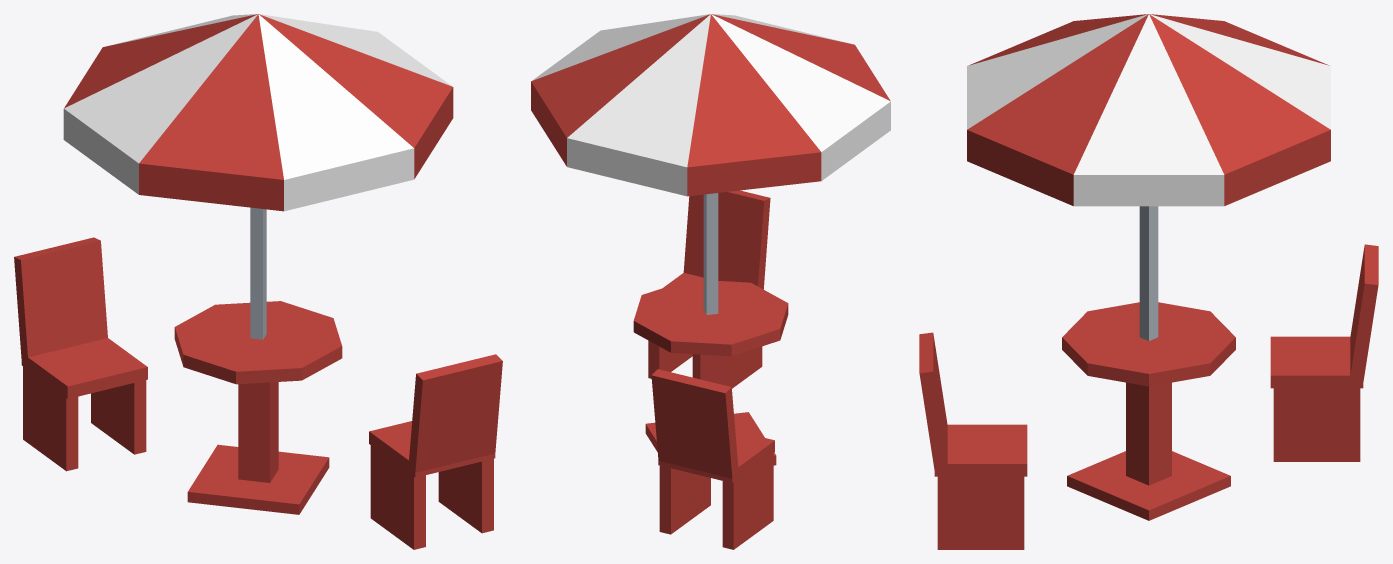
Rendered from guarda_sol_b.glb.
The picture shows the model from 3 angles, left to right: view 1: azimuth 30°, elevation 25°; view 2: azimuth 150°, elevation 25°; view 3: azimuth 270°, elevation 25°; orthographic projection. The views are drawn at different scales.
Parts seen in each view (by area): view 1: corpo; view 2: corpo; view 3: corpo.
Boxes of the visible parts, x1,y1,x2,y2 form: corpo: (14, 14, 502, 549); corpo: (531, 14, 890, 549); corpo: (919, 14, 1378, 549).
Size of the model in its own units: 0.3141 by 0.45 by 0.3963.
